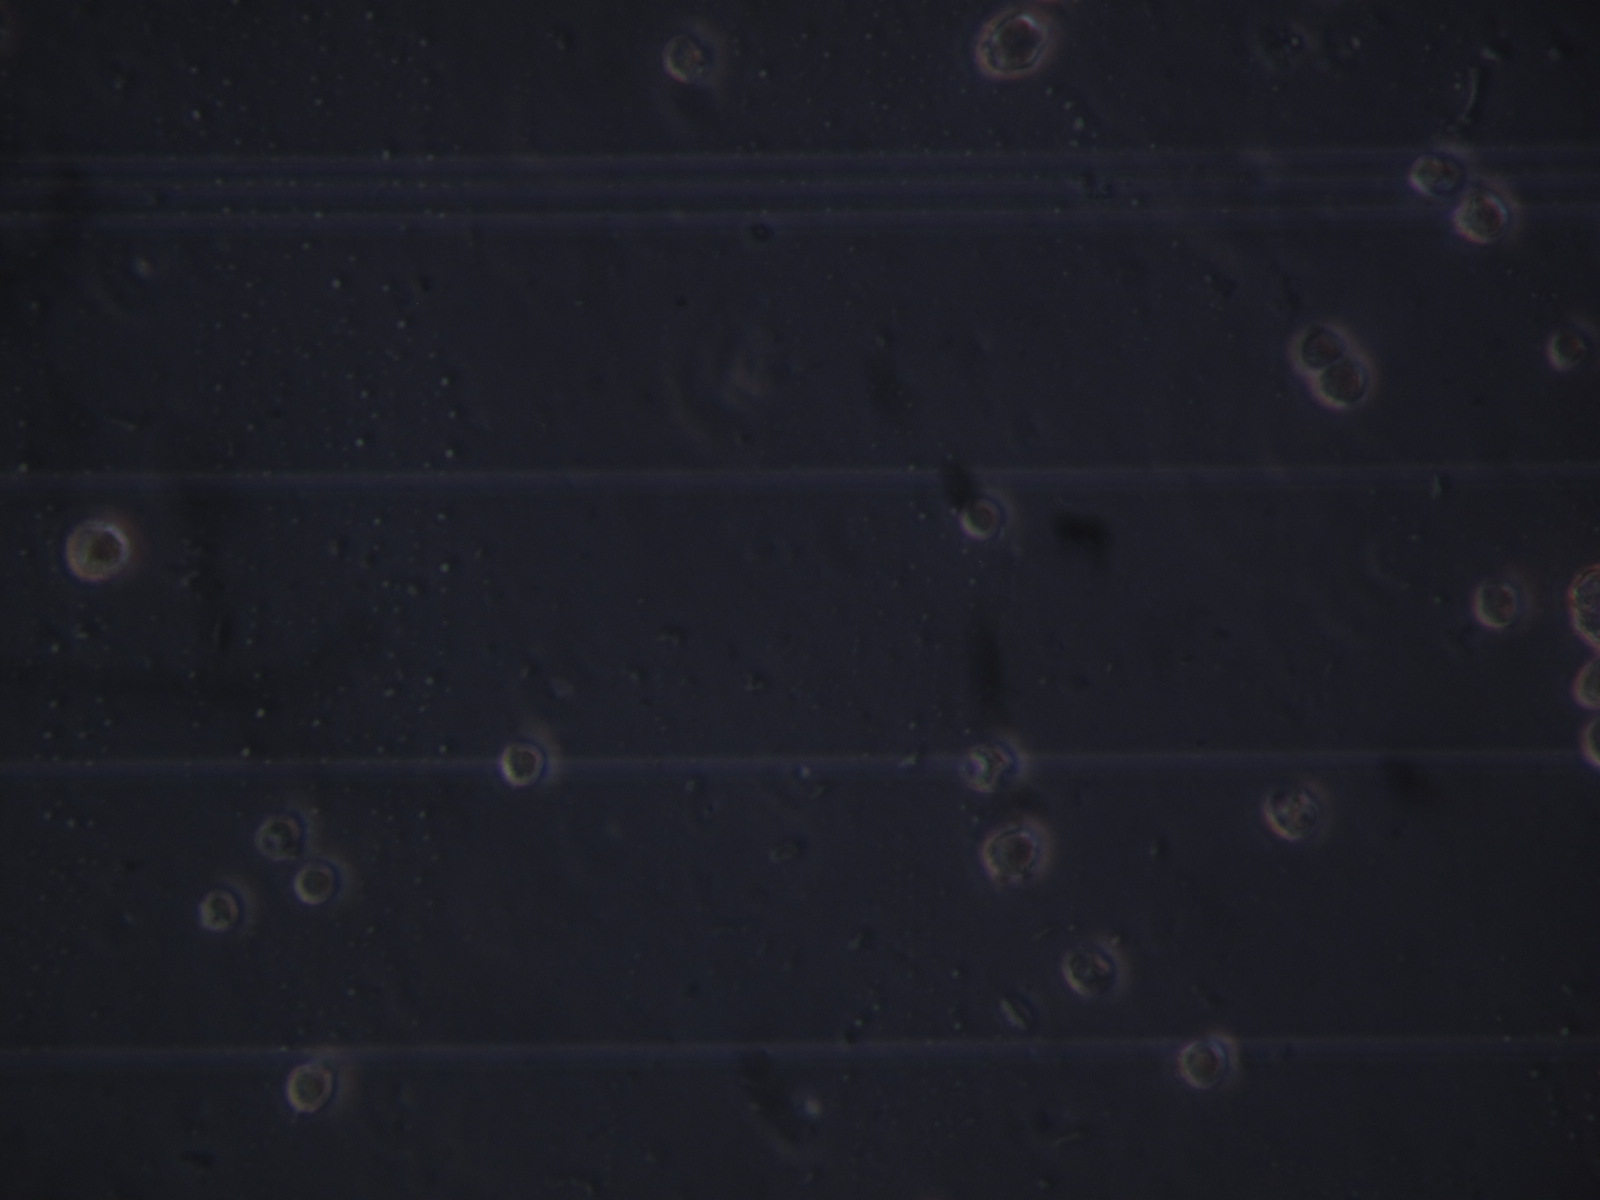hemo: (973, 3, 1052, 79), (1262, 771, 1333, 842), (961, 724, 1031, 795), (285, 1047, 351, 1122), (979, 814, 1052, 881), (63, 514, 134, 581), (498, 726, 559, 800), (664, 18, 724, 93), (1062, 940, 1125, 1012), (1179, 1026, 1241, 1094), (1406, 137, 1474, 197), (1458, 187, 1521, 248), (291, 850, 351, 913), (197, 875, 257, 937), (1314, 350, 1373, 412), (1290, 314, 1353, 371), (260, 804, 319, 861), (957, 489, 1015, 545), (1474, 575, 1521, 635), (1566, 565, 1600, 642), (1574, 655, 1600, 712)
